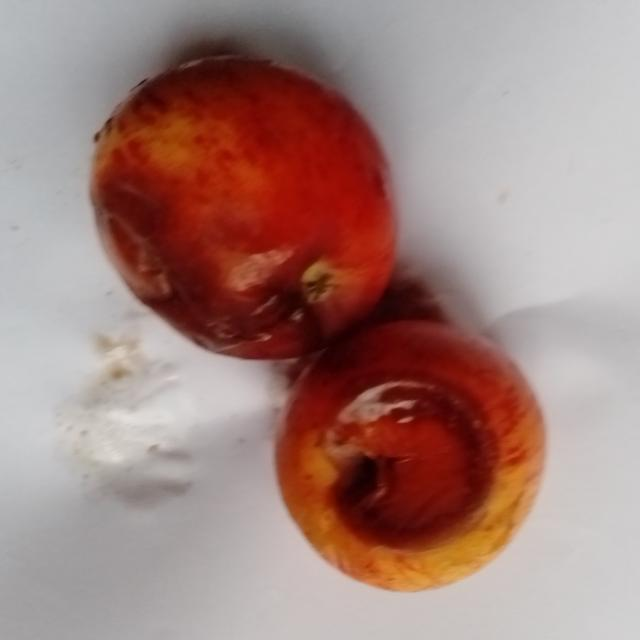apple: (91, 57, 395, 358), (277, 321, 543, 591)
